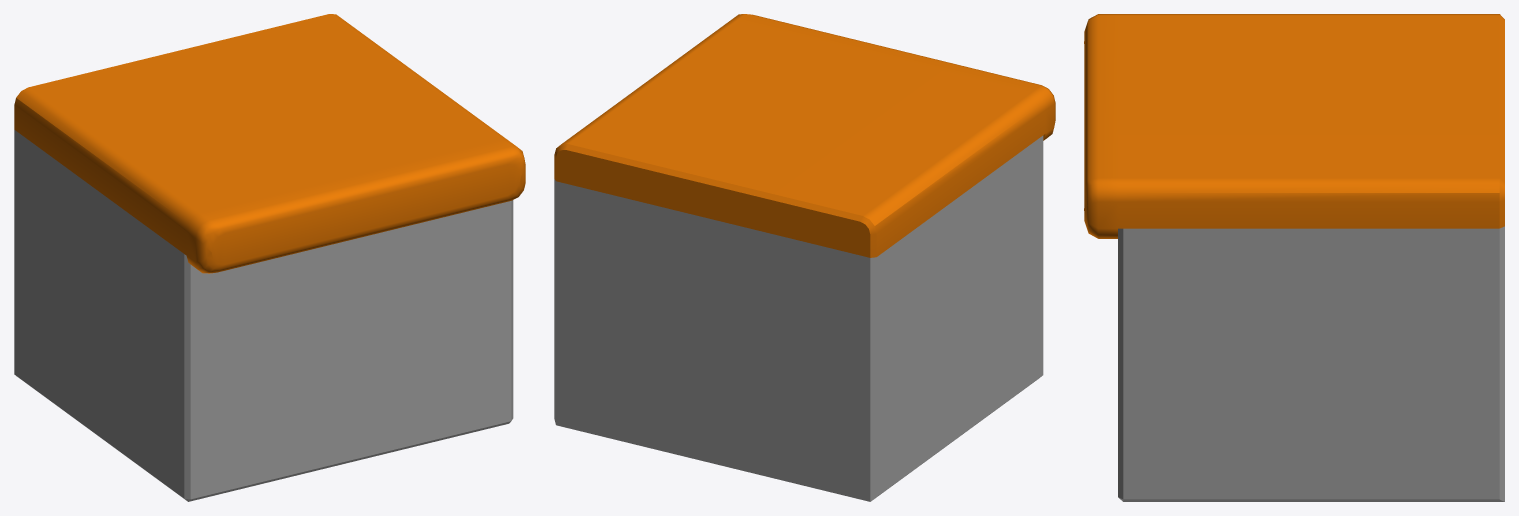
File: SM_counter_single.fbx
The picture shows the model from 3 angles, left to right: view 1: azimuth 30°, elevation 25°; view 2: azimuth 150°, elevation 25°; view 3: azimuth 270°, elevation 25°; orthographic projection. The views are drawn at different scales.
Visible parts, largest first — view 1: polySurface43; view 2: polySurface43; view 3: polySurface43.
Part boxes in pixels (x1,y1,x2,y2): polySurface43: (14, 14, 525, 501); polySurface43: (554, 14, 1055, 501); polySurface43: (1084, 14, 1504, 501).
Size of the model in its own units: 1 by 0.8358 by 1.
